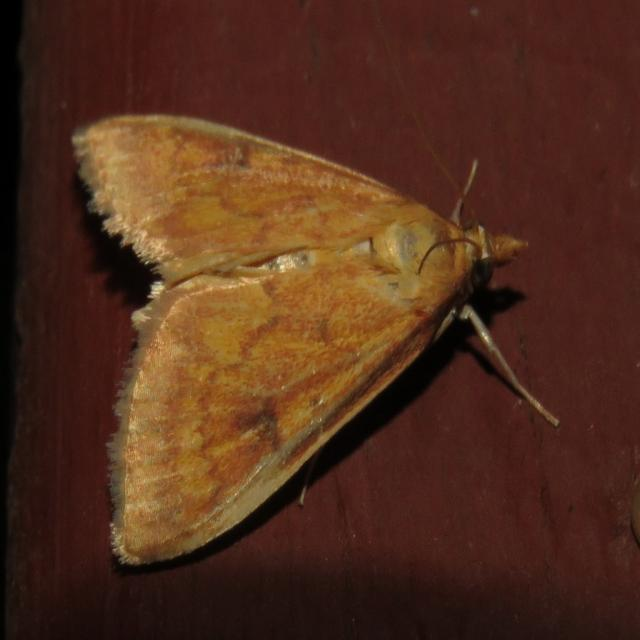cornborer-Adult-: (50, 78, 567, 584)
